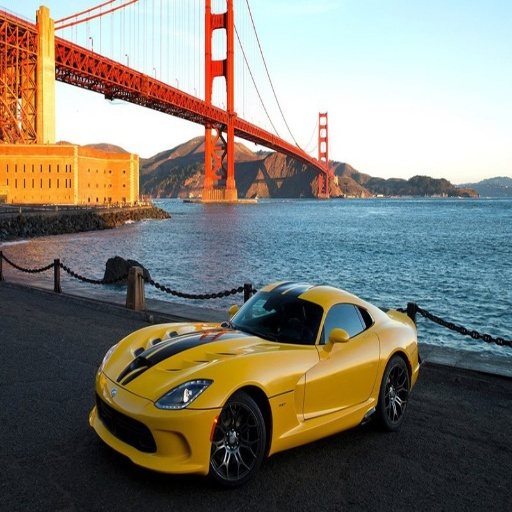front_bumper: (94, 378, 217, 472)
front_glass: (230, 286, 317, 343)
front_left_door: (301, 298, 364, 425)
